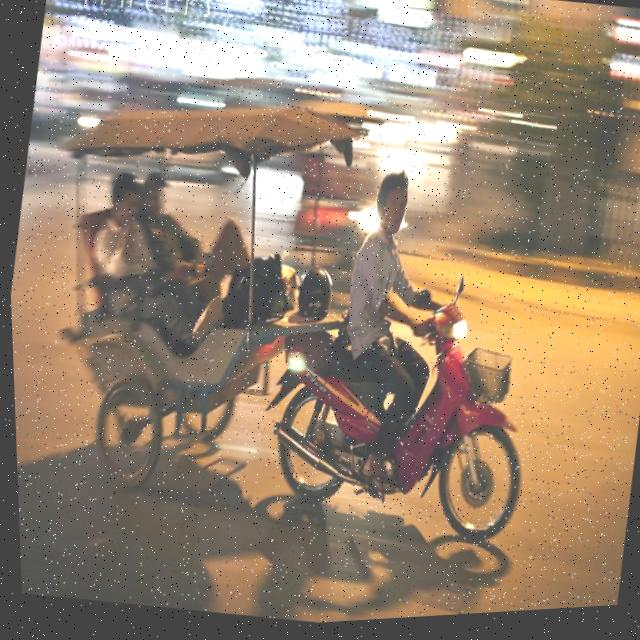motorcycle: (229, 234, 563, 557)
